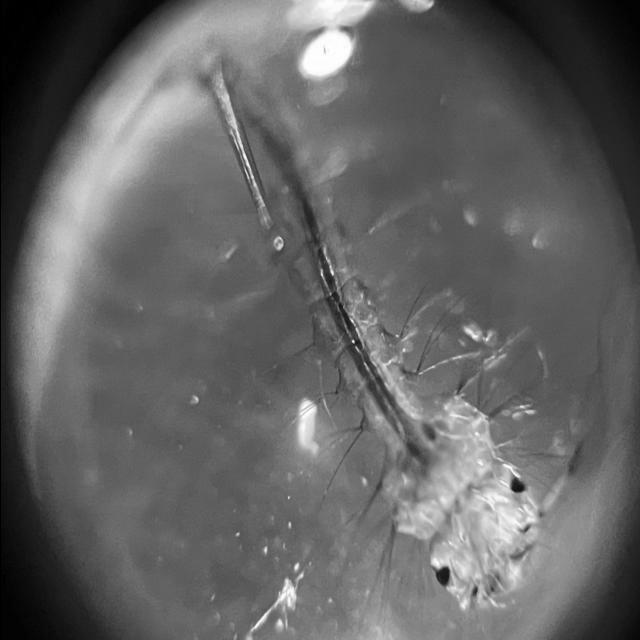larvas: (187, 50, 548, 607)
